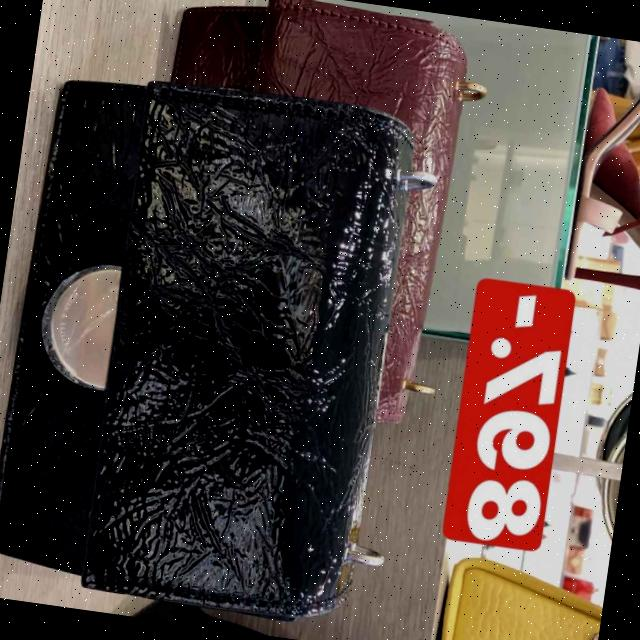Handbag: (0, 61, 424, 636)
